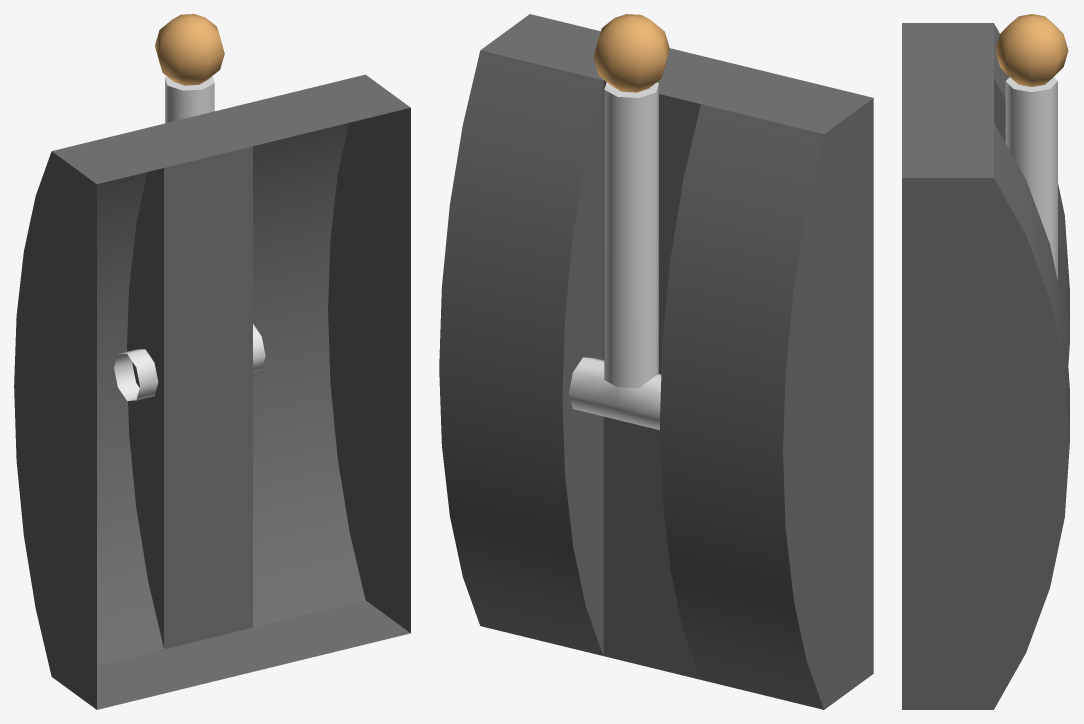
Rendered from EnergyLever.fbx.
3 views of the same model, side by side, from view 1: azimuth 30°, elevation 25°; view 2: azimuth 150°, elevation 25°; view 3: azimuth 270°, elevation 25° (orthographic). The views are drawn at different scales.
Parts seen in each view (by area): view 1: SM_EnergyLeverCase, SM_EnergyLever; view 2: SM_EnergyLeverCase, SM_EnergyLever; view 3: SM_EnergyLeverCase, SM_EnergyLever.
Part boxes in pixels (<box>): SM_EnergyLeverCase: <box>14,74,410,709</box>; SM_EnergyLever: <box>114,14,265,400</box>; SM_EnergyLeverCase: <box>439,14,873,709</box>; SM_EnergyLever: <box>568,14,669,429</box>; SM_EnergyLeverCase: <box>902,23,1069,709</box>; SM_EnergyLever: <box>995,14,1068,280</box>.
Size of the model in its own units: 400 by 183 by 740.
